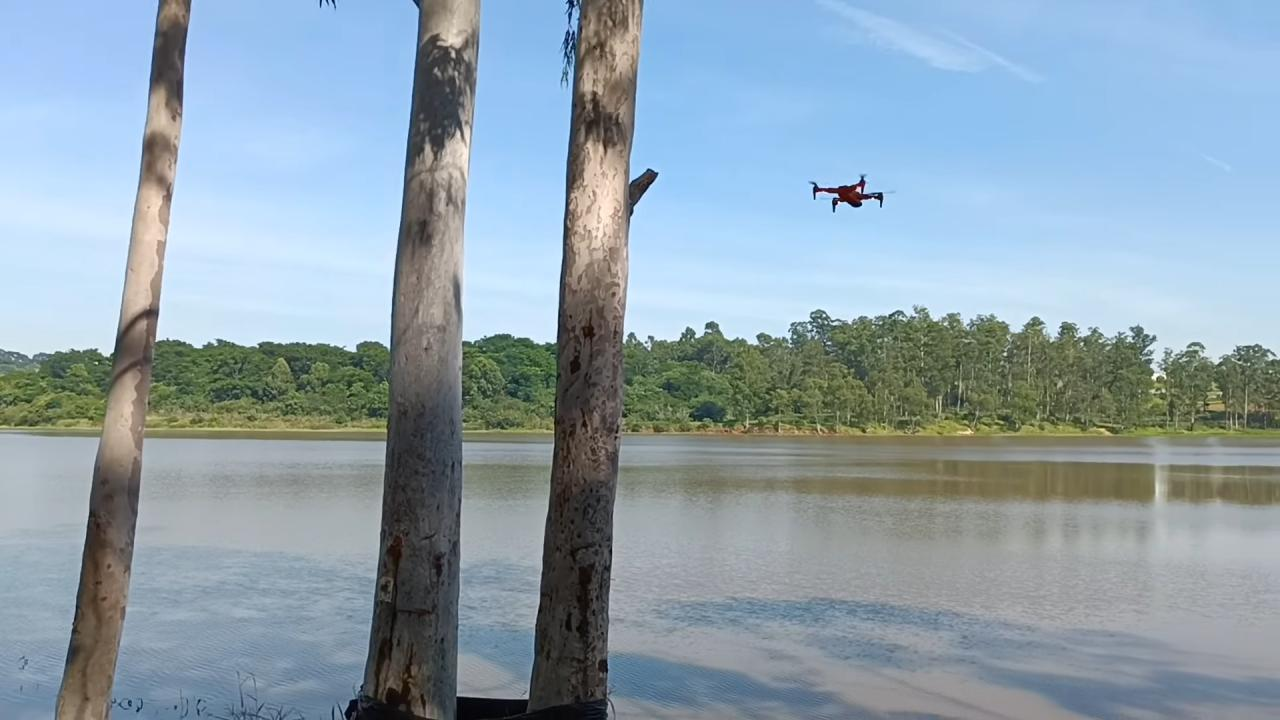Drone: (796, 165, 899, 220)
